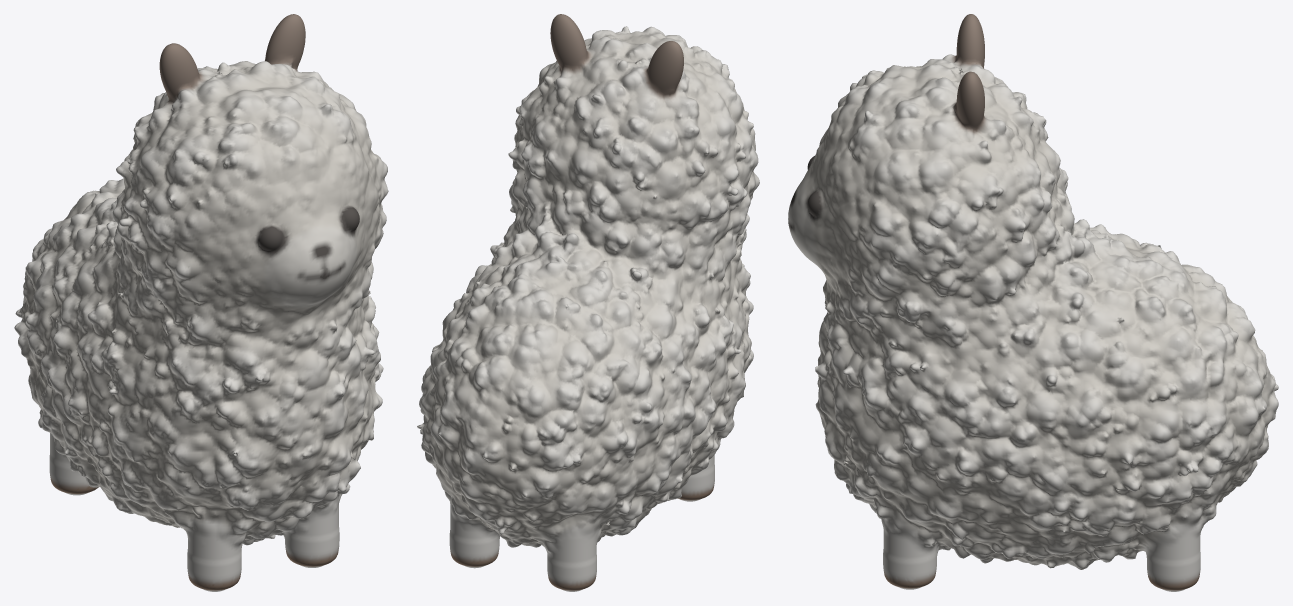
The model's file is alpaca.glb.
The picture shows the model from 3 angles, left to right: view 1: azimuth 30°, elevation 25°; view 2: azimuth 150°, elevation 25°; view 3: azimuth 270°, elevation 25°; orthographic projection. The views are drawn at different scales.
Parts seen in each view (by area): view 1: alpaca; view 2: alpaca; view 3: alpaca.
Boxes of the visible parts, box(x1,y1,x2,y2) form: alpaca: box(14, 14, 388, 591); alpaca: box(417, 14, 759, 591); alpaca: box(788, 14, 1278, 591).
Size of the model in its own units: 0.6062 by 1.13 by 0.9673.
